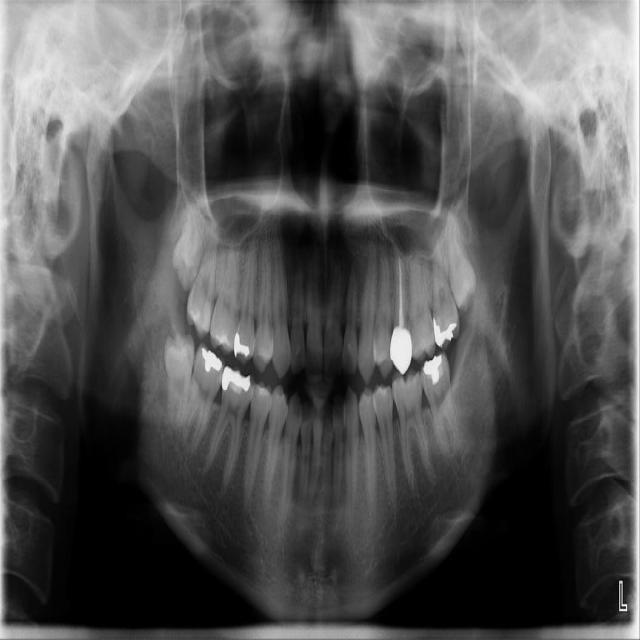Crown: (390, 326, 413, 375)
Filling: (219, 367, 253, 395), (431, 316, 460, 346), (419, 356, 445, 386), (198, 346, 223, 375), (233, 329, 254, 358), (211, 329, 236, 353), (257, 385, 270, 397)
Root Canal Treatment: (399, 257, 404, 325)
impacted tooth: (170, 194, 207, 289), (445, 210, 478, 311), (163, 337, 194, 428)
